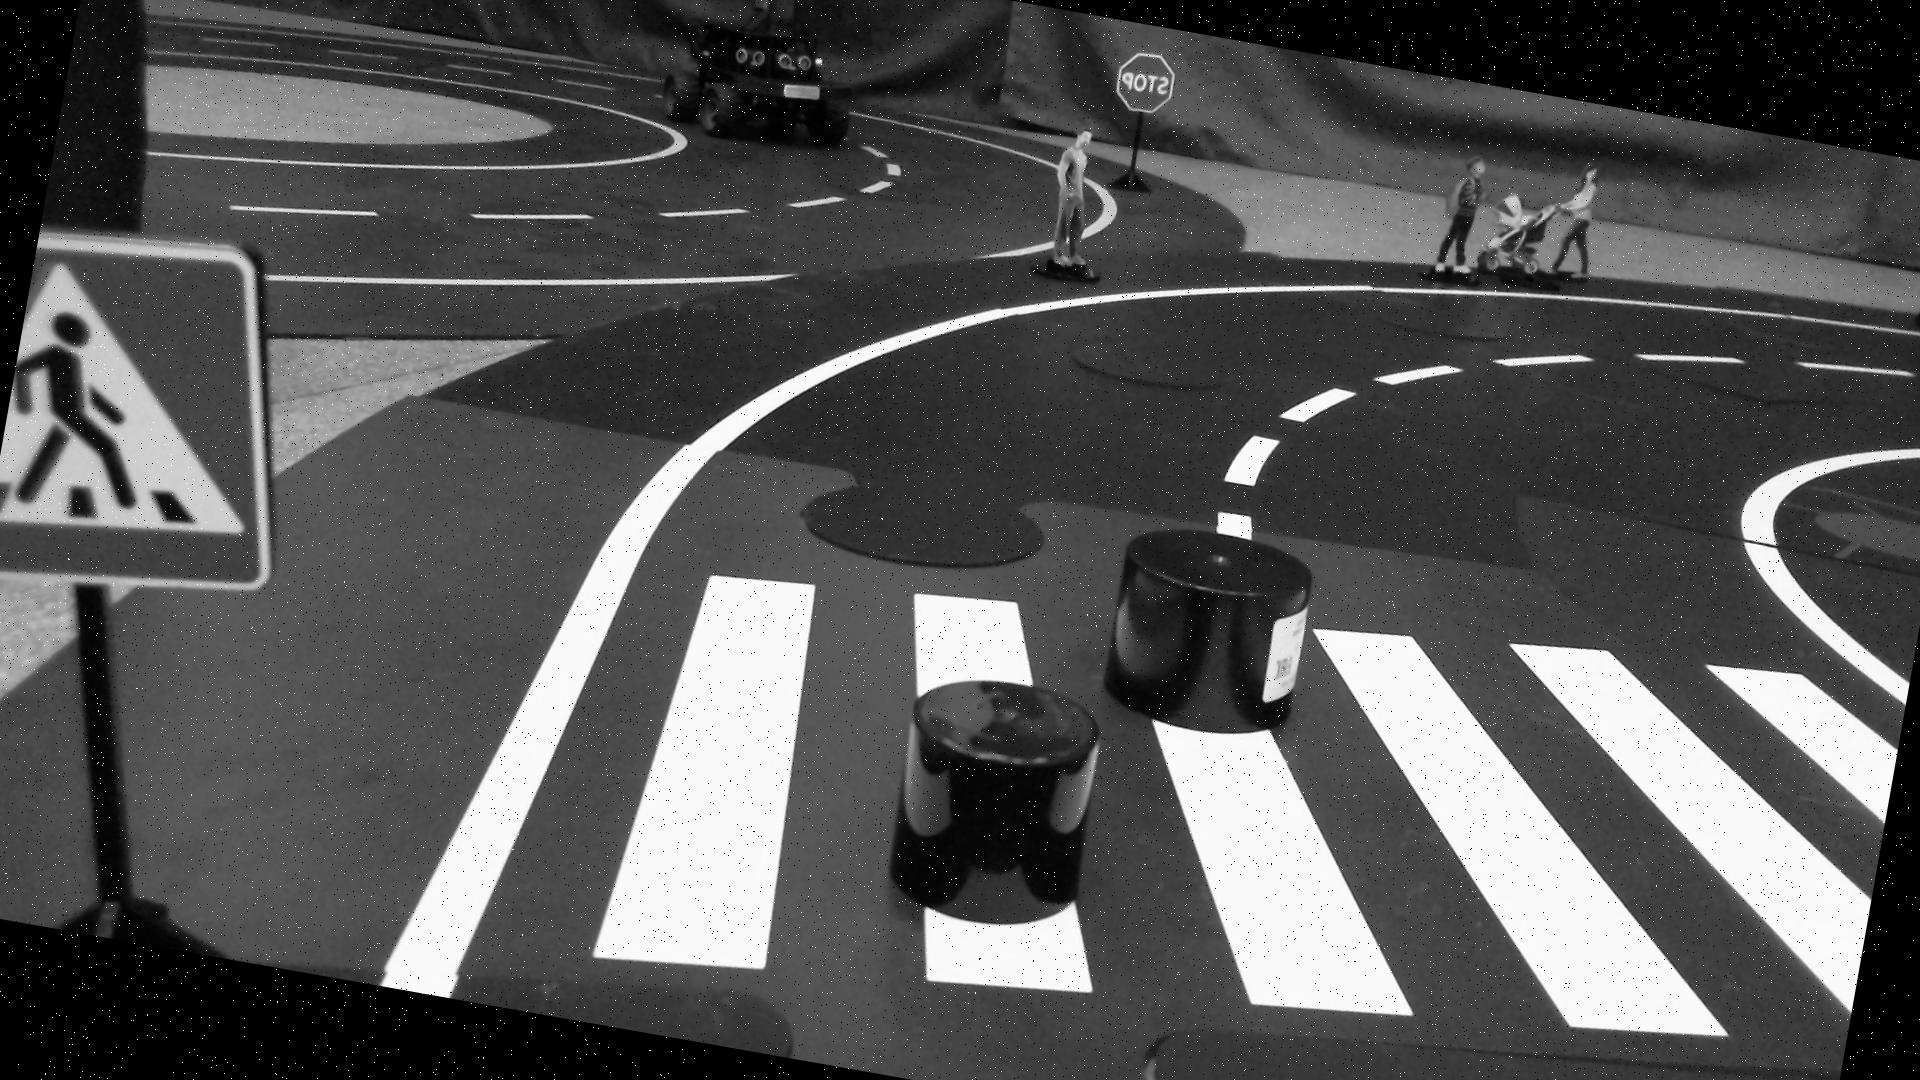barricade: (872, 659, 1114, 940), (1085, 514, 1324, 742)
crossing: (466, 415, 1914, 1080)
person: (1487, 141, 1612, 294), (1036, 116, 1116, 282), (1424, 152, 1501, 280)
